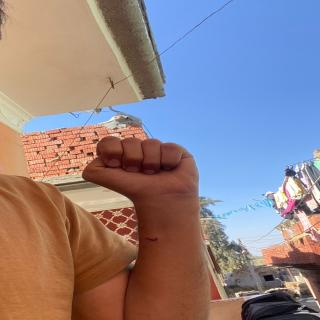SAD: (87, 134, 215, 201)
